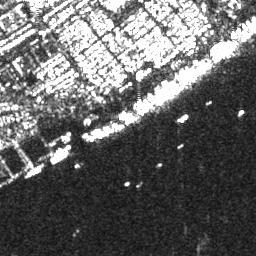ship: (24, 164, 45, 179), (51, 151, 70, 164), (175, 114, 189, 123), (238, 108, 244, 117), (176, 143, 185, 149), (124, 179, 130, 188)
